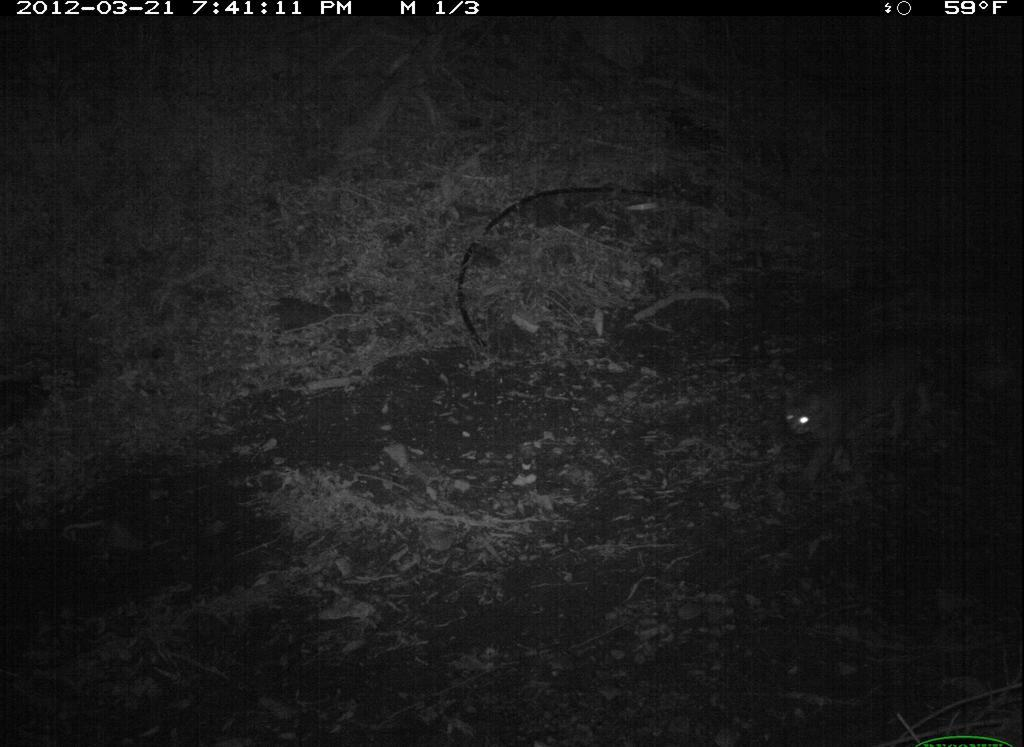cat: (777, 324, 958, 497)
